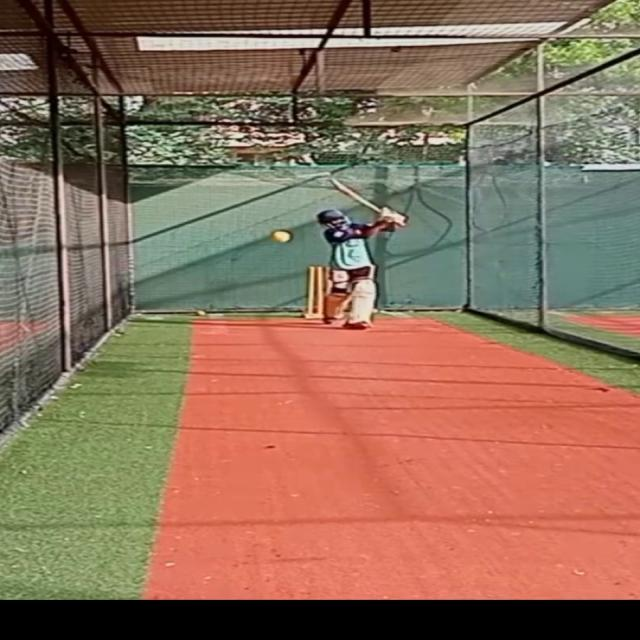ball: (267, 228, 295, 245)
stump: (302, 265, 328, 319)
